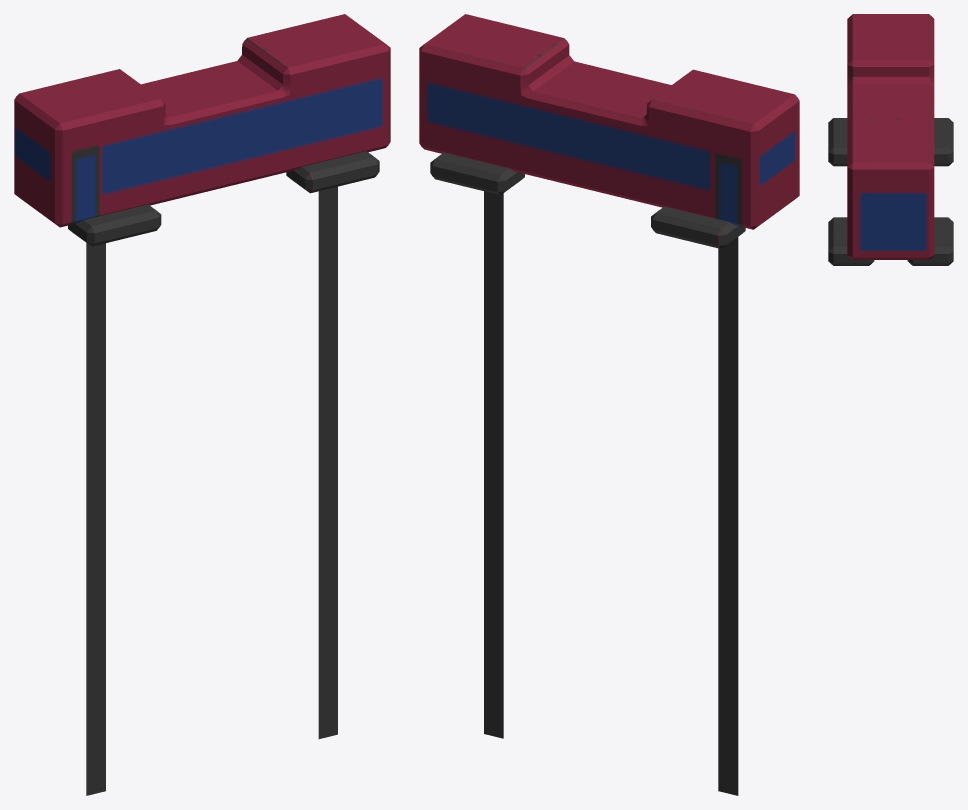
Rendered from FlyingBus.fbx.
3 renders of one model, left to right at view 1: azimuth 30°, elevation 25°; view 2: azimuth 150°, elevation 25°; view 3: azimuth 270°, elevation 25°, orthographic. The views are drawn at different scales.
Parts seen in each view (by area): view 1: Bus, String1, String2, Tyre2, Tyre3; view 2: Bus, String1, String2, Tyre5, Tyre4; view 3: Bus, Tyre3, Tyre5, Tyre4, Tyre2.
Boxes of the visible parts, x1,y1,x2,y2 form: Bus: [14, 14, 390, 227]; String1: [86, 243, 105, 795]; String2: [318, 186, 337, 738]; Tyre2: [68, 204, 161, 246]; Tyre3: [286, 151, 379, 193]; Bus: [419, 14, 799, 229]; String1: [718, 237, 738, 795]; String2: [484, 191, 503, 738]; Tyre5: [430, 152, 524, 195]; Tyre4: [651, 206, 745, 248]; Bus: [847, 14, 934, 259]; Tyre3: [828, 217, 874, 265]; Tyre5: [907, 217, 953, 265]; Tyre4: [934, 118, 953, 166]; Tyre2: [828, 118, 847, 166].
Bounding box in the file's own units: 17.19 × 33.92 × 5.95.
